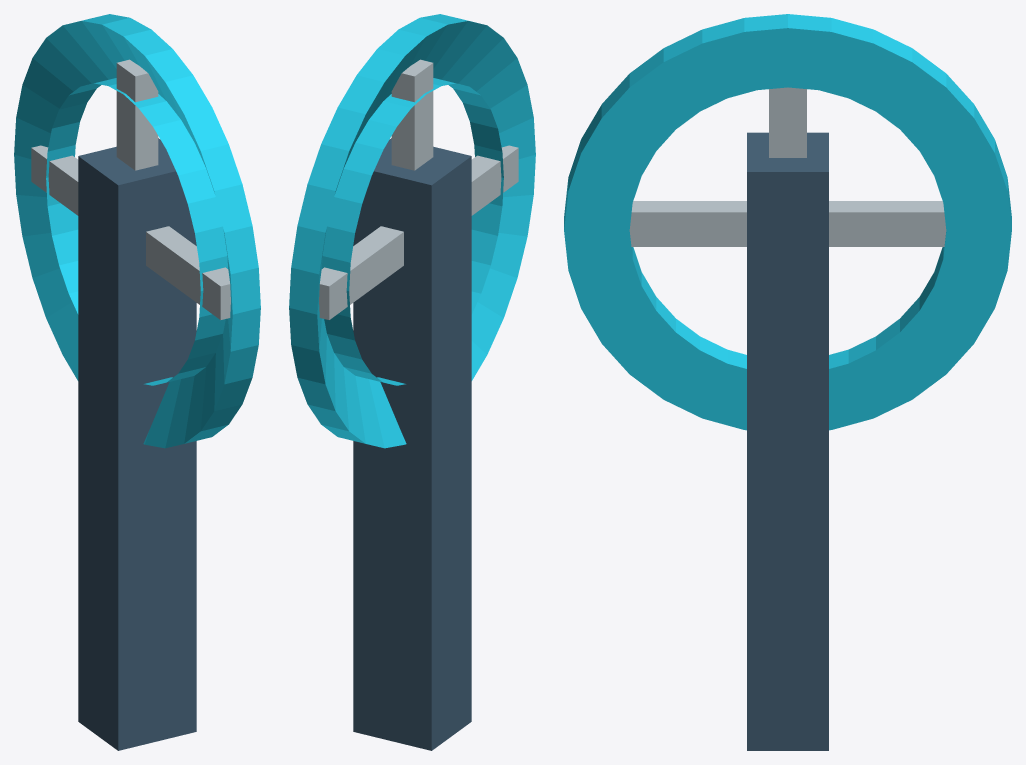
File: 41_L75_BeamProfileInspectionScanner.fbx
3 renders of one model, left to right at view 1: azimuth 30°, elevation 25°; view 2: azimuth 150°, elevation 25°; view 3: azimuth 270°, elevation 25°, orthographic. The views are drawn at different scales.
Parts seen in each view (by area): view 1: BeamProfileInspectionScanner, BeamProfileInspectionScanner_Part_0000, BeamProfileInspectionScanner_Part_0002, BeamProfileInspectionScanner_Part_0001; view 2: BeamProfileInspectionScanner, BeamProfileInspectionScanner_Part_0000, BeamProfileInspectionScanner_Part_0002, BeamProfileInspectionScanner_Part_0001; view 3: BeamProfileInspectionScanner_Part_0000, BeamProfileInspectionScanner, BeamProfileInspectionScanner_Part_0002, BeamProfileInspectionScanner_Part_0001.
Part boxes in pixels (left/top/right/bottom): BeamProfileInspectionScanner: left=78, top=138, right=196, bottom=750; BeamProfileInspectionScanner_Part_0000: left=14, top=14, right=260, bottom=448; BeamProfileInspectionScanner_Part_0002: left=31, top=145, right=230, bottom=319; BeamProfileInspectionScanner_Part_0001: left=116, top=59, right=158, bottom=170; BeamProfileInspectionScanner: left=353, top=138, right=471, bottom=750; BeamProfileInspectionScanner_Part_0000: left=289, top=14, right=535, bottom=448; BeamProfileInspectionScanner_Part_0002: left=319, top=145, right=518, bottom=319; BeamProfileInspectionScanner_Part_0001: left=391, top=59, right=433, bottom=170; BeamProfileInspectionScanner_Part_0000: left=564, top=14, right=1011, bottom=430; BeamProfileInspectionScanner: left=747, top=132, right=828, bottom=750; BeamProfileInspectionScanner_Part_0002: left=629, top=201, right=946, bottom=246; BeamProfileInspectionScanner_Part_0001: left=769, top=87, right=806, bottom=157.
Size of the model in its own units: 17 by 144 by 82.
